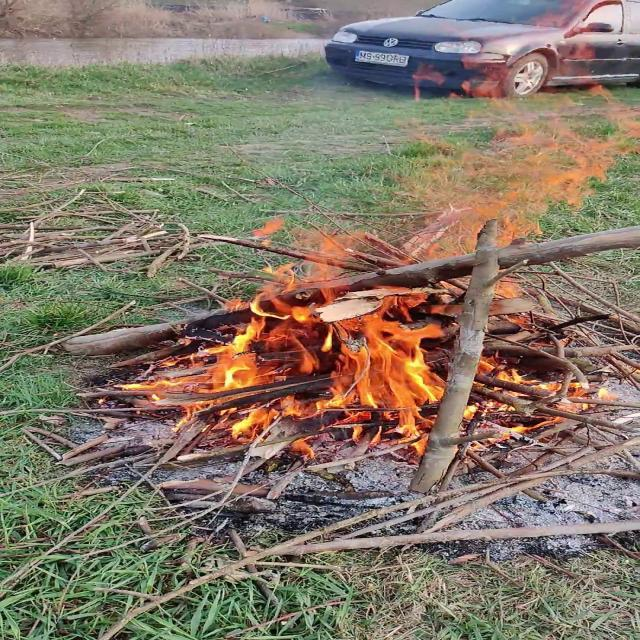Fire: (120, 89, 639, 454)
